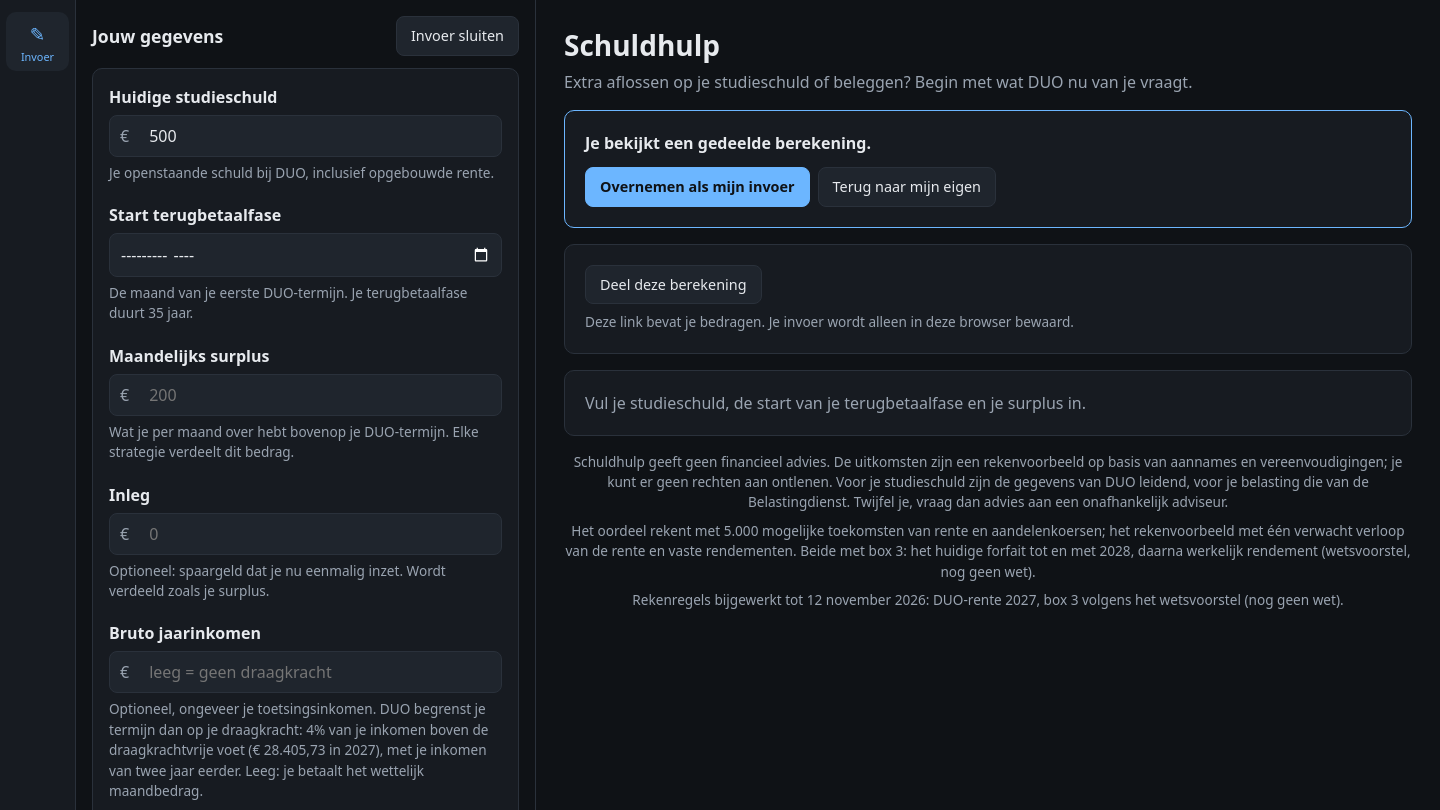
Test: share link (#31) › with saved inputs: gedeelde berekening › "Terug naar mijn eigen" restores the saved inputs and clears the hash
The image size is (1440, 810).
Type "75" into the field labelled "Maandelijks surplus".
click(320, 395); type("75")  # box [139,375,501,415]
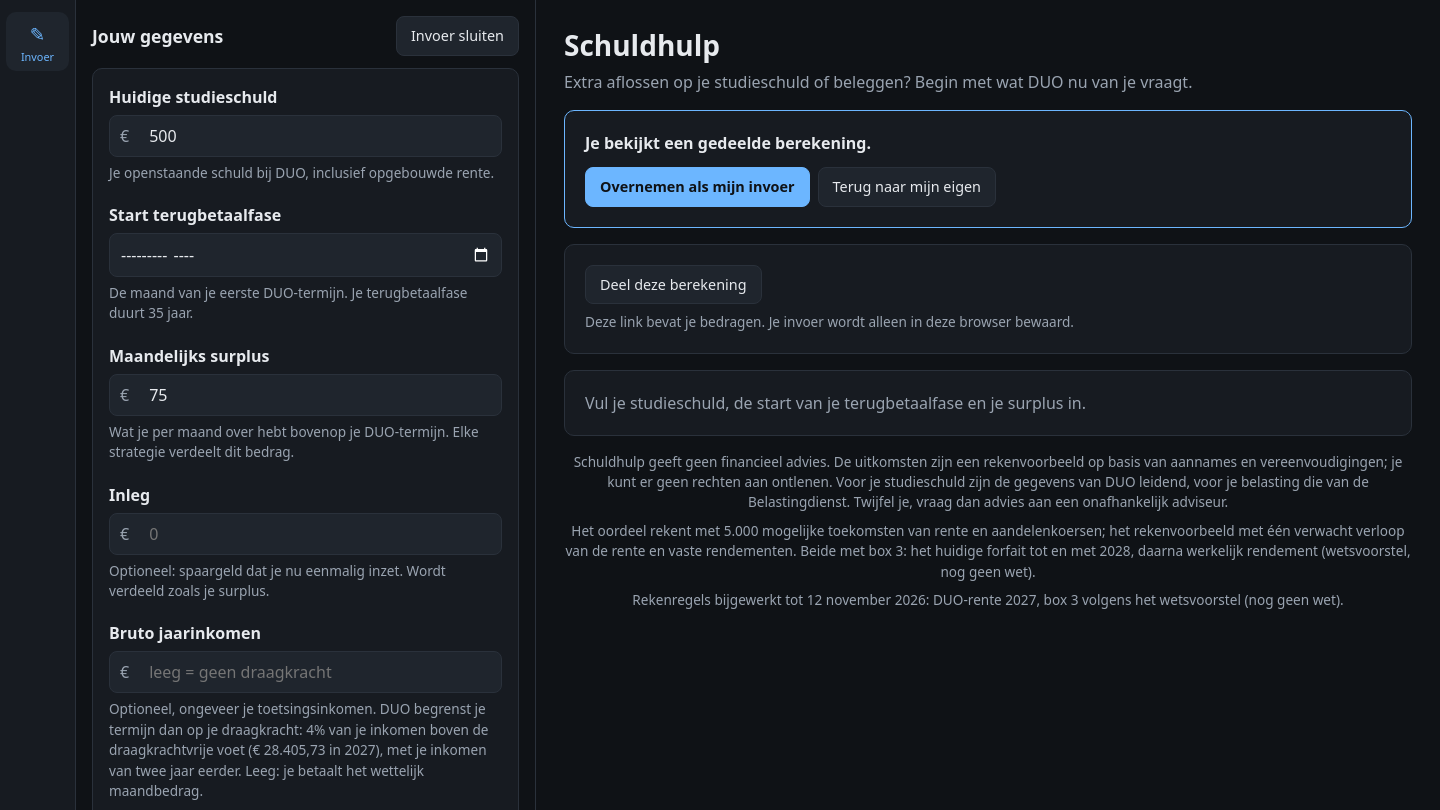
Click the button "Terug naar mijn eigen".
click(907, 187)  # box [818,167,996,207]
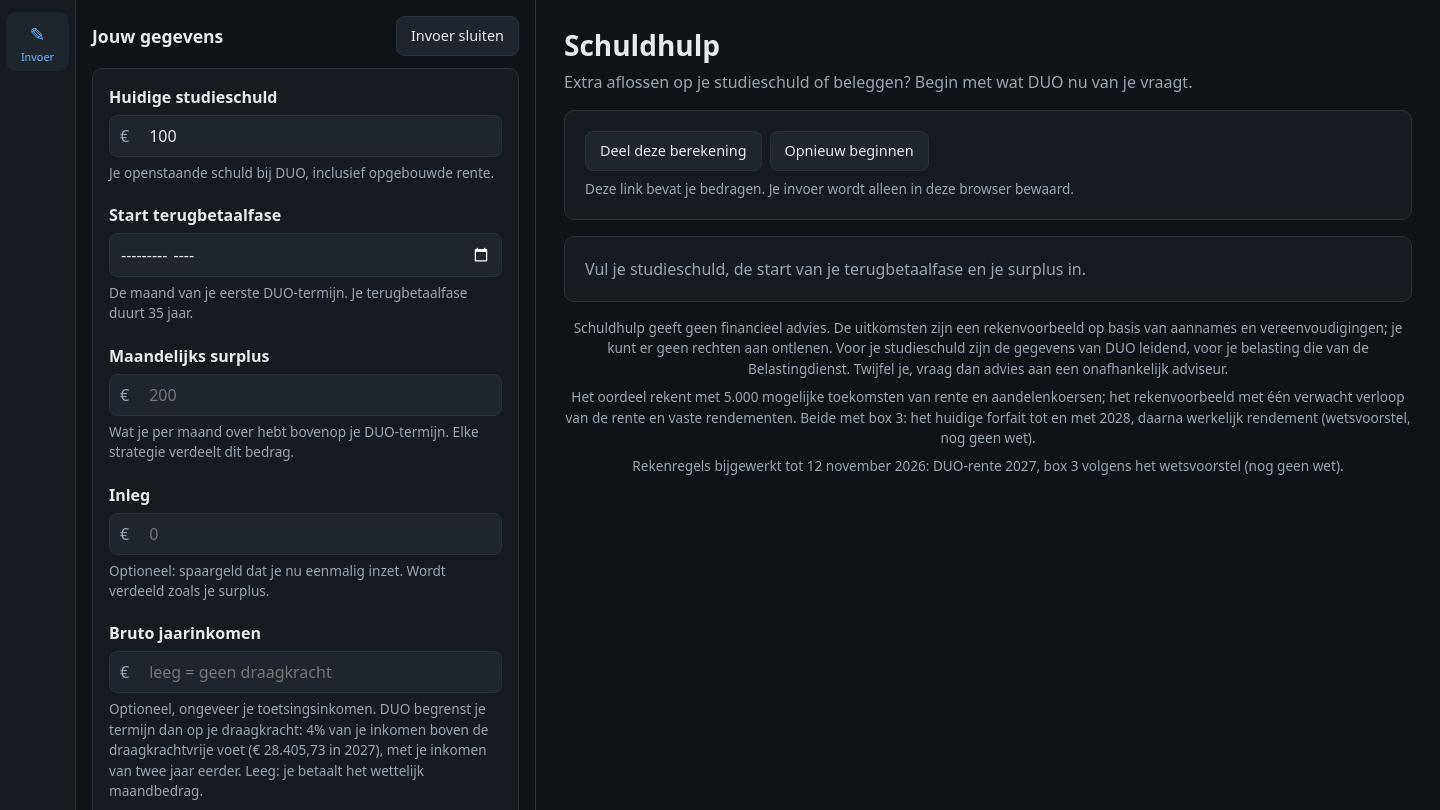
Expected: the text "gedeelde berekening" is gone
